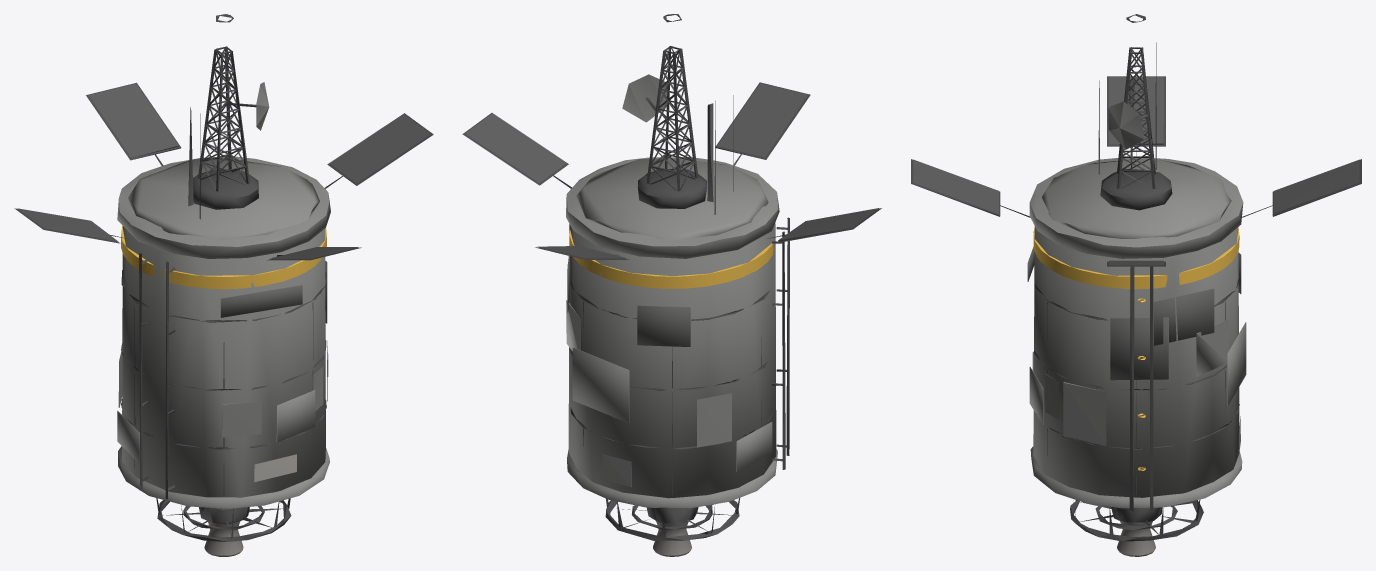
Rendered from NavigationsbojeFern.d940c10f9d.glb.
3 renders of one model, left to right at view 1: azimuth 30°, elevation 25°; view 2: azimuth 150°, elevation 25°; view 3: azimuth 270°, elevation 25°, orthographic.
Visible parts, largest first — view 1: Navigationsboje_lack, Navigationsboje_matt, Navigationsboje_metall; view 2: Navigationsboje_lack, Navigationsboje_matt, Navigationsboje_metall; view 3: Navigationsboje_lack, Navigationsboje_matt, Navigationsboje_metall.
Boxes of the visible parts, left/top/right/bottom form: Navigationsboje_lack: left=14, top=14, right=433, bottom=541; Navigationsboje_matt: left=121, top=226, right=326, bottom=289; Navigationsboje_metall: left=204, top=521, right=243, bottom=556; Navigationsboje_lack: left=462, top=14, right=881, bottom=540; Navigationsboje_matt: left=569, top=230, right=773, bottom=288; Navigationsboje_metall: left=653, top=521, right=691, bottom=556; Navigationsboje_lack: left=911, top=14, right=1361, bottom=541; Navigationsboje_matt: left=1033, top=227, right=1239, bottom=470; Navigationsboje_metall: left=1117, top=521, right=1155, bottom=556.
Bounding box in the file's own units: 4.6 × 5.99 × 4.6.
